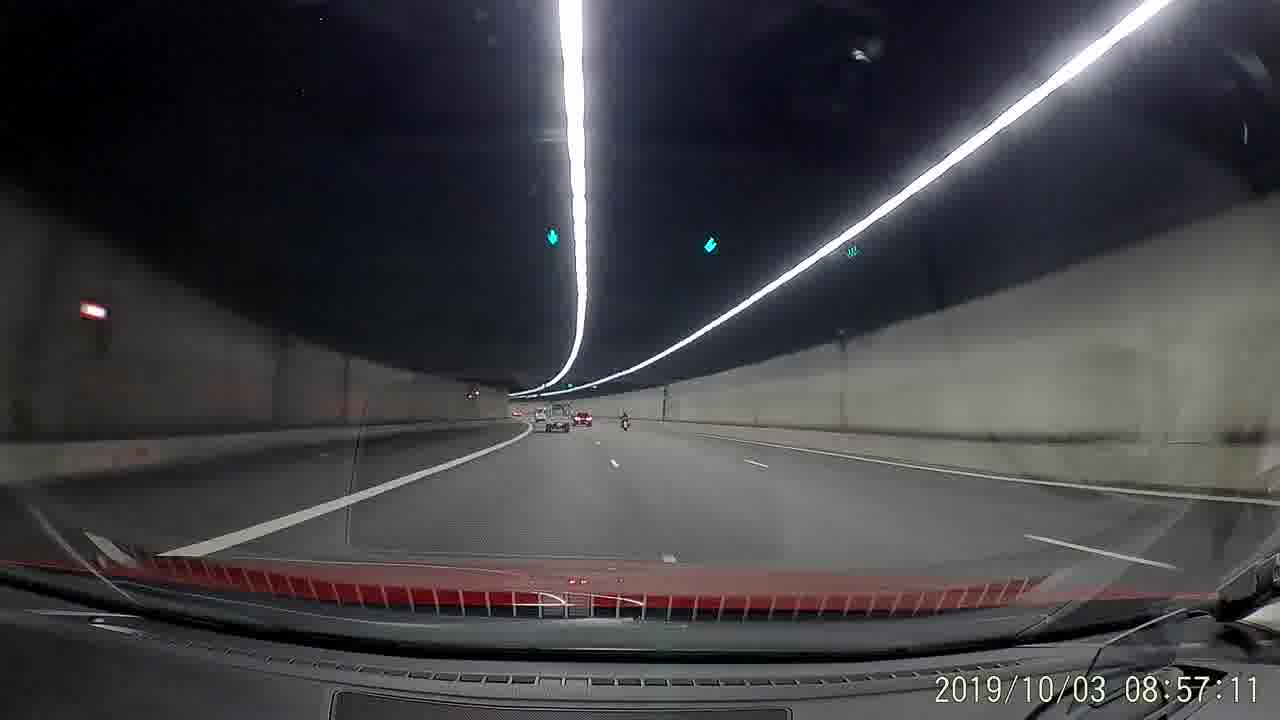car: (573, 411, 591, 427)
